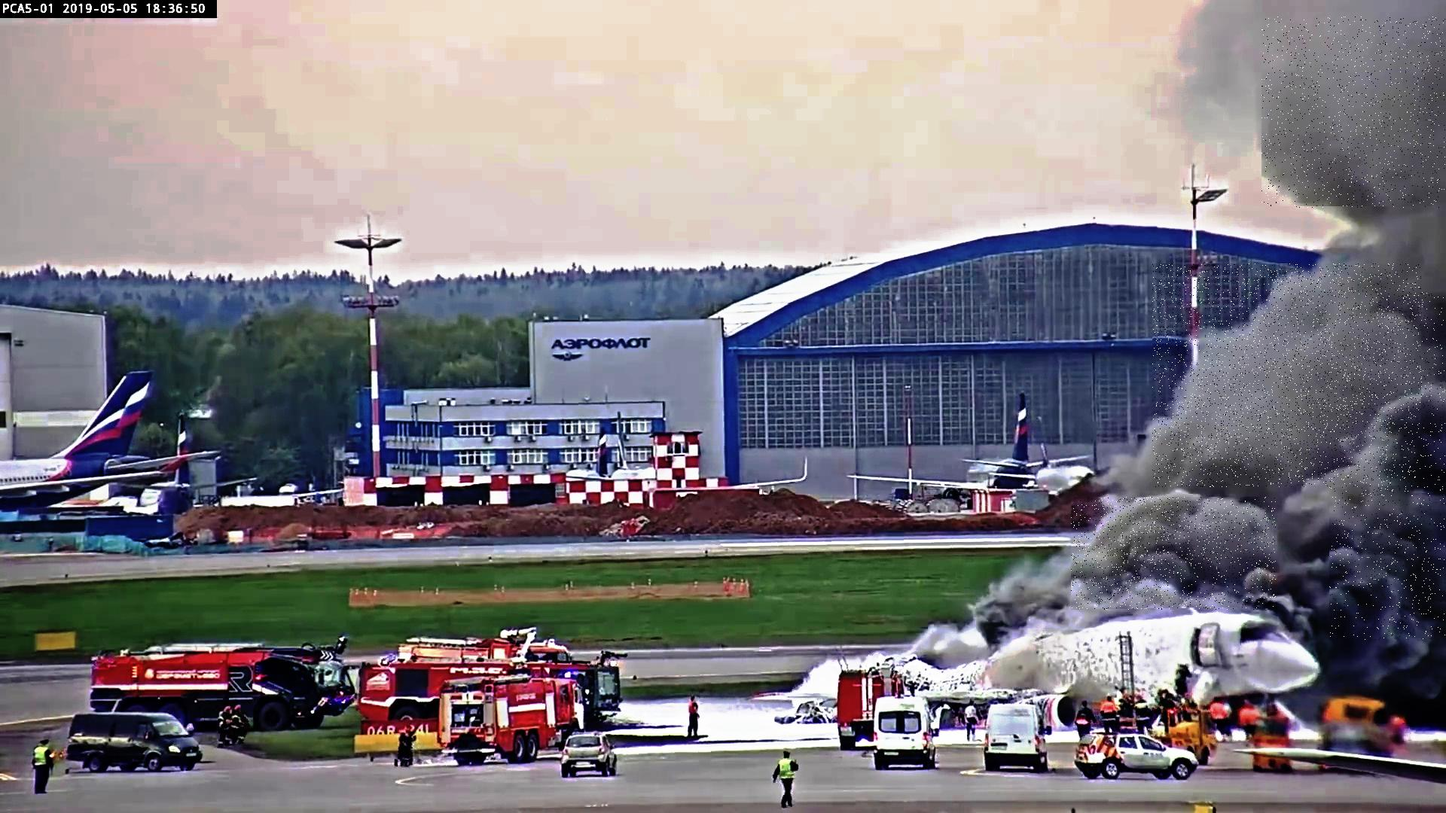smoke: (1152, 264, 1421, 488), (1330, 292, 1446, 640), (1262, 17, 1446, 208), (1072, 497, 1276, 610)
